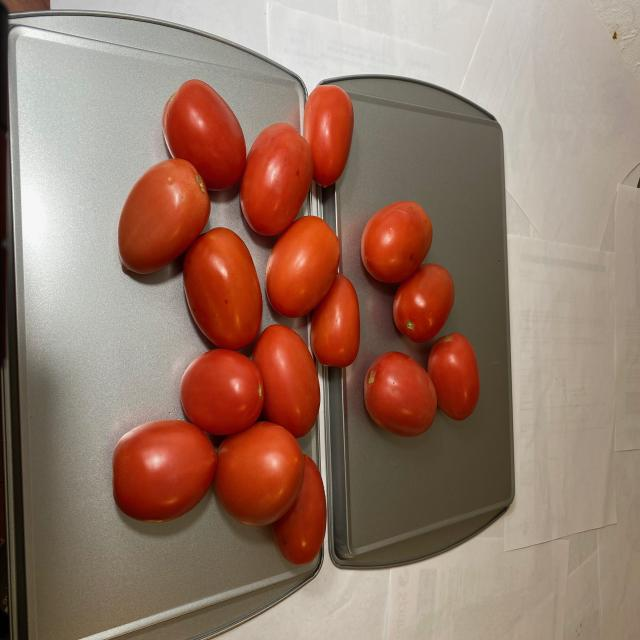tomato: (108, 81, 477, 564)
